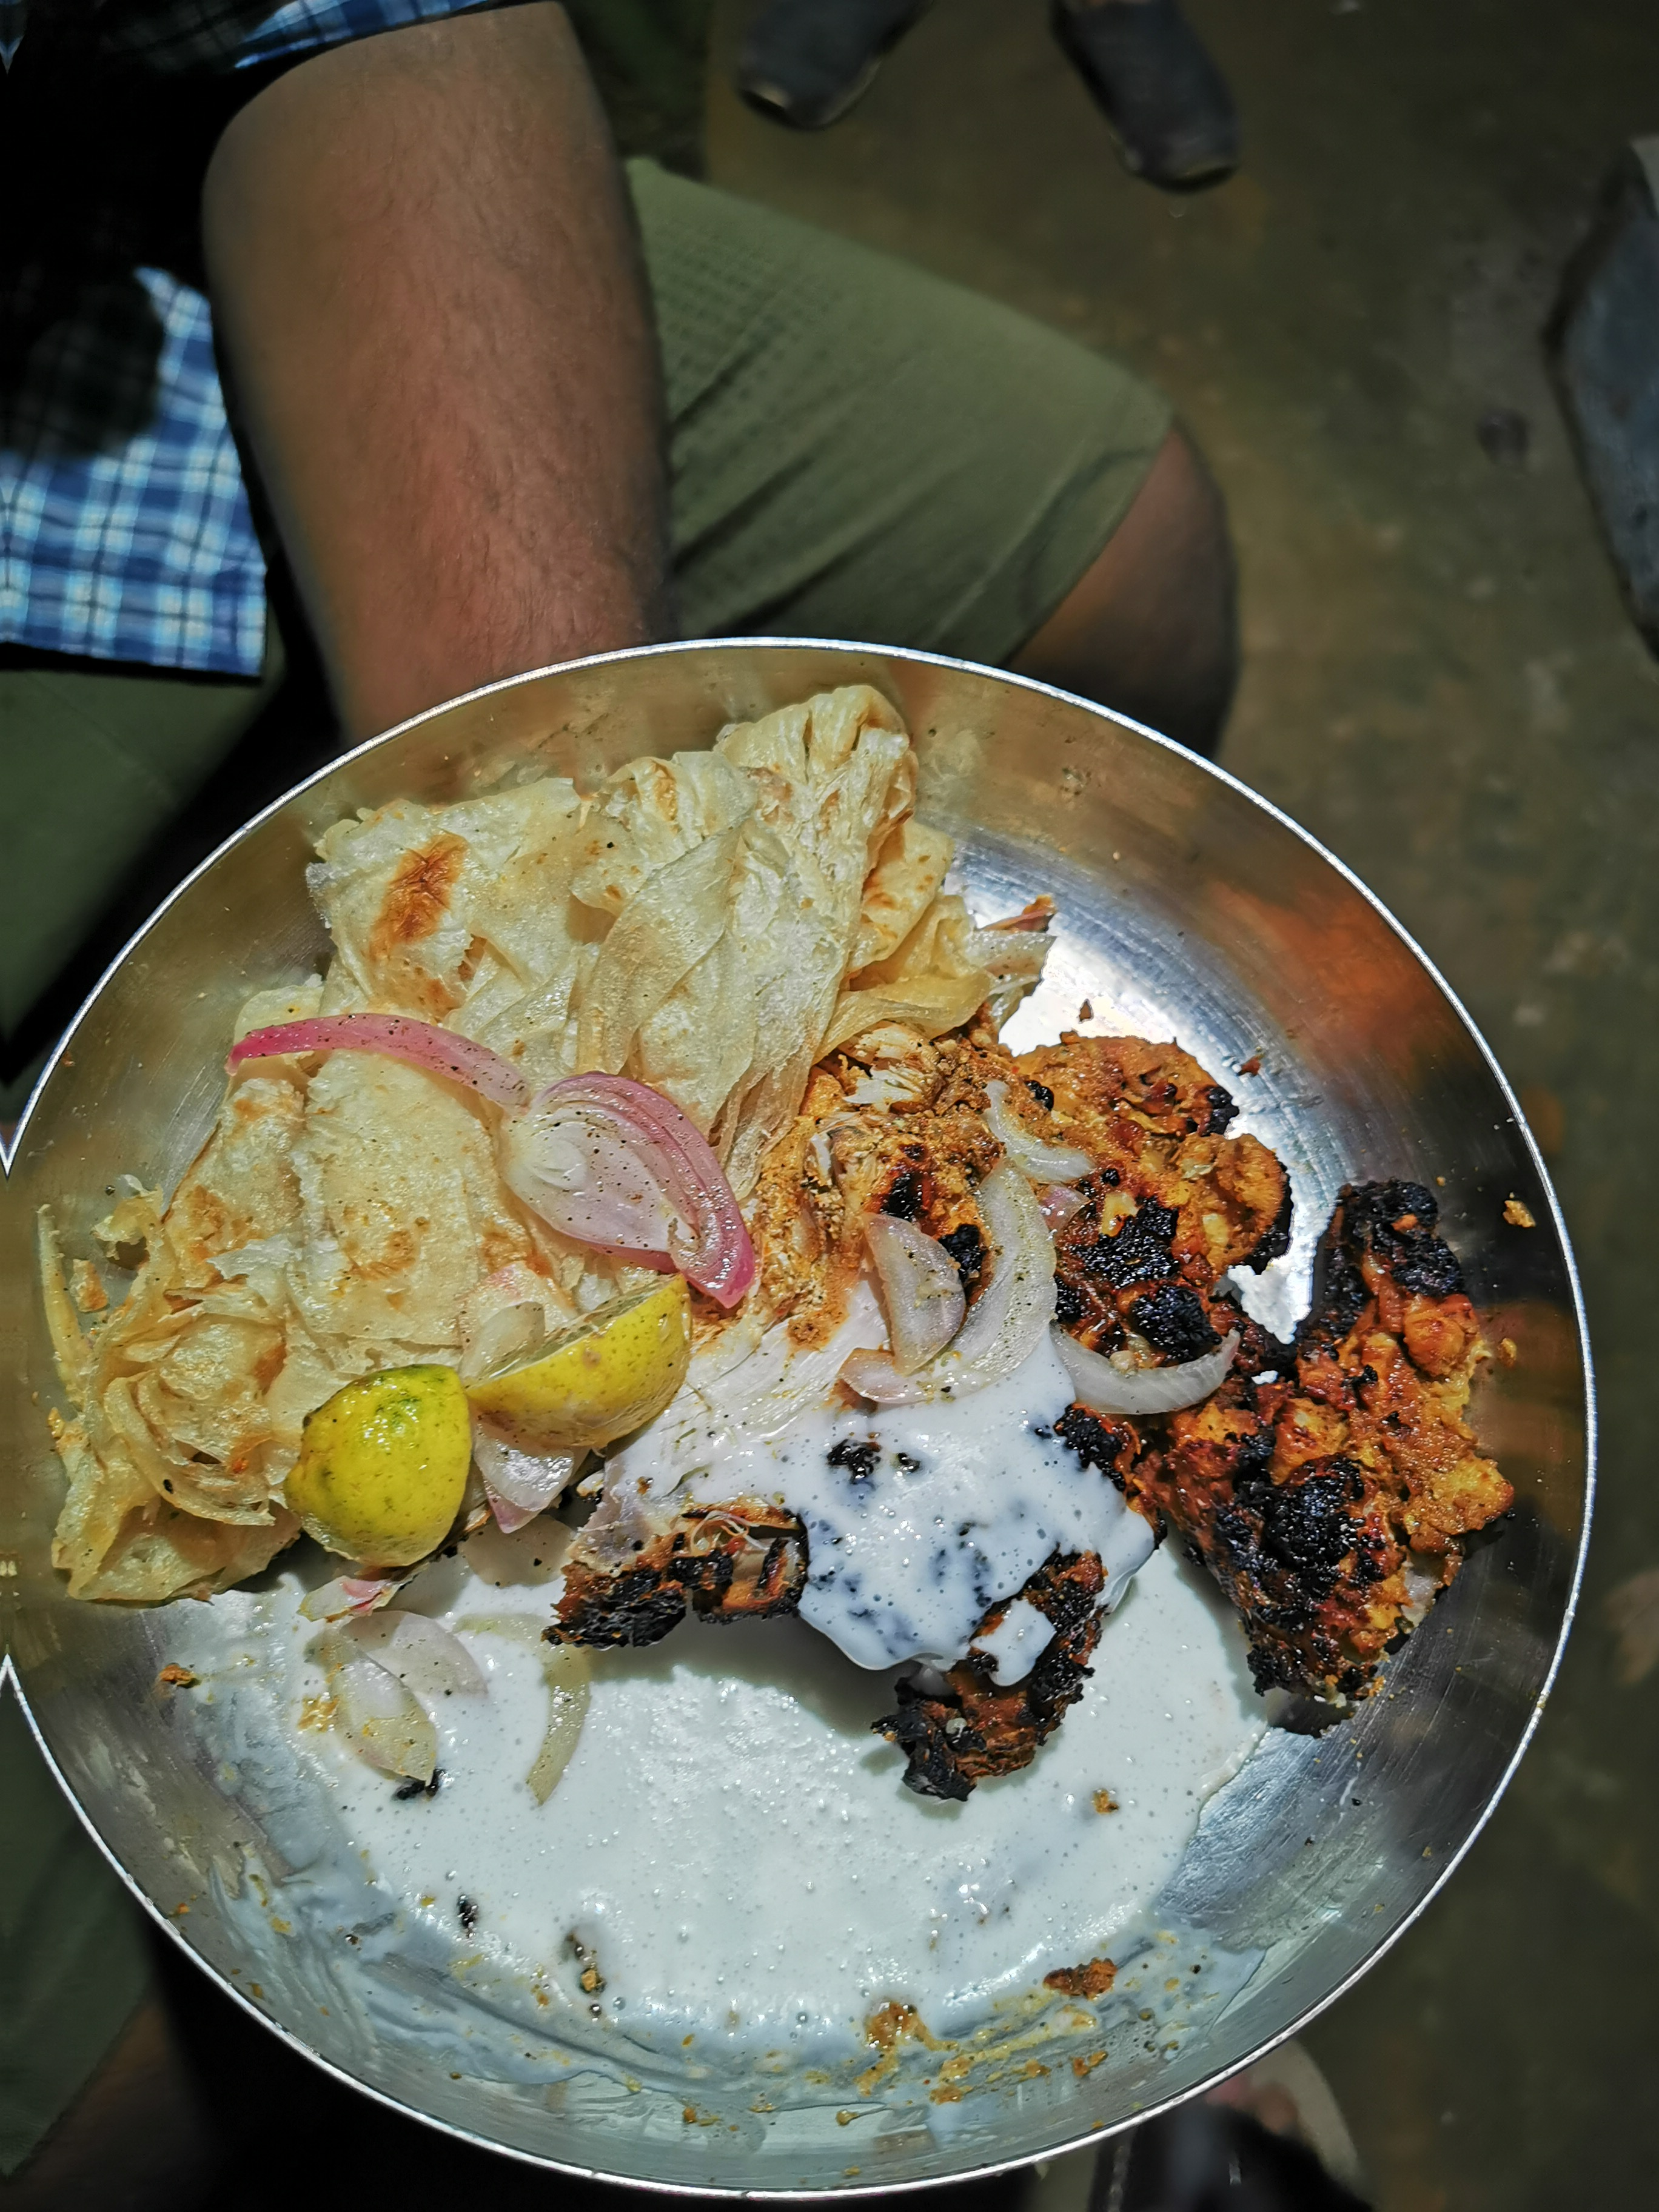food: (29, 675, 1527, 2100)
